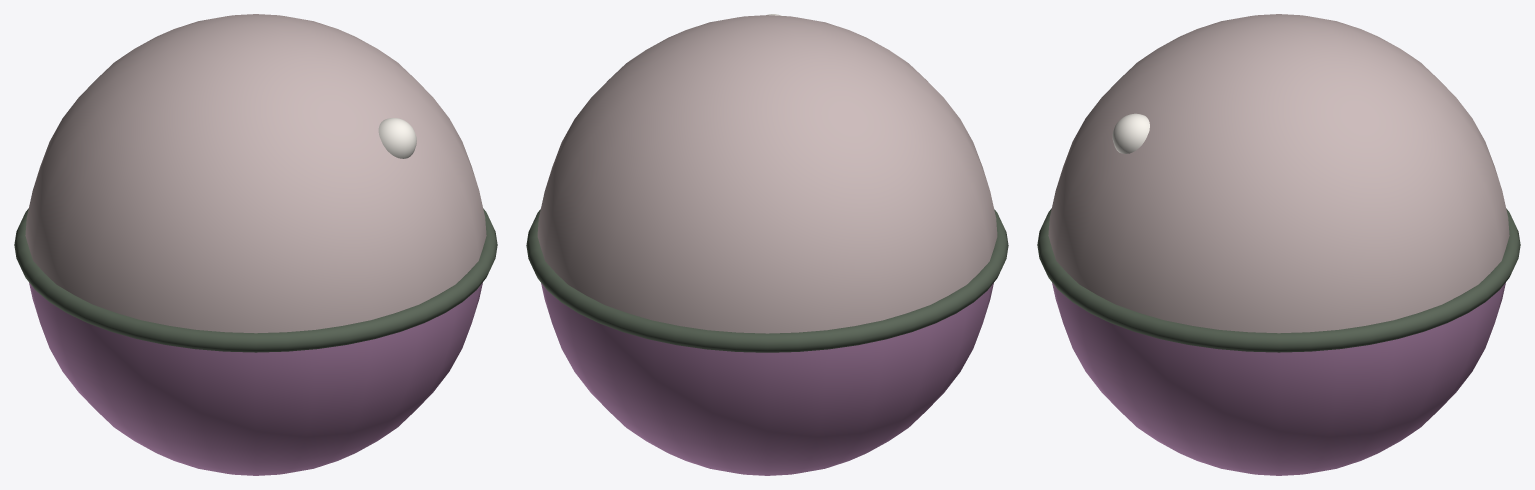
Rendered from hopper-ball-3.glb.
3 renders of one model, left to right at view 1: azimuth 30°, elevation 25°; view 2: azimuth 150°, elevation 25°; view 3: azimuth 270°, elevation 25°, orthographic.
Visible parts, largest first — view 1: HopperBall3_Batch0, HopperBall3_Batch1; view 2: HopperBall3_Batch0, HopperBall3_Batch1; view 3: HopperBall3_Batch0, HopperBall3_Batch1.
Part boxes in pixels (x1,y1,x2,y2): HopperBall3_Batch0: (25, 14, 486, 475); HopperBall3_Batch1: (14, 118, 497, 352); HopperBall3_Batch0: (537, 15, 997, 475); HopperBall3_Batch1: (526, 14, 1008, 352); HopperBall3_Batch0: (1048, 14, 1509, 475); HopperBall3_Batch1: (1037, 113, 1520, 352).
Size of the model in its own units: 0.037 by 0.0354 by 0.037.
